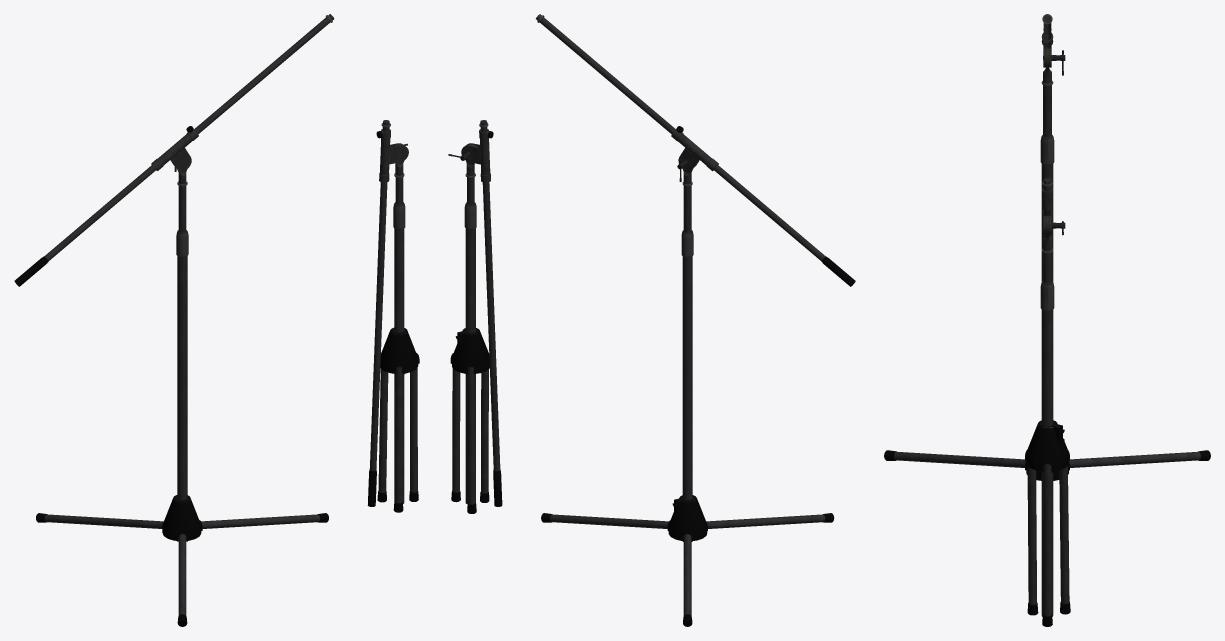
File: mic-stand.glb
3 views of the same model, side by side, from view 1: azimuth 30°, elevation 25°; view 2: azimuth 150°, elevation 25°; view 3: azimuth 270°, elevation 25° (orthographic). The views are drawn at different scales.
Visible parts, largest first — view 1: SketchFab__0; view 2: SketchFab__0; view 3: SketchFab__0.
Boxes of the visible parts, x1=… form: SketchFab__0: x1=14, y1=14, x2=419, y2=626; SketchFab__0: x1=448, y1=14, x2=855, y2=626; SketchFab__0: x1=884, y1=14, x2=1210, y2=626.
Bounding box in the file's own units: 1.35 × 1.63 × 0.8531.
1 material, 1 textured.
